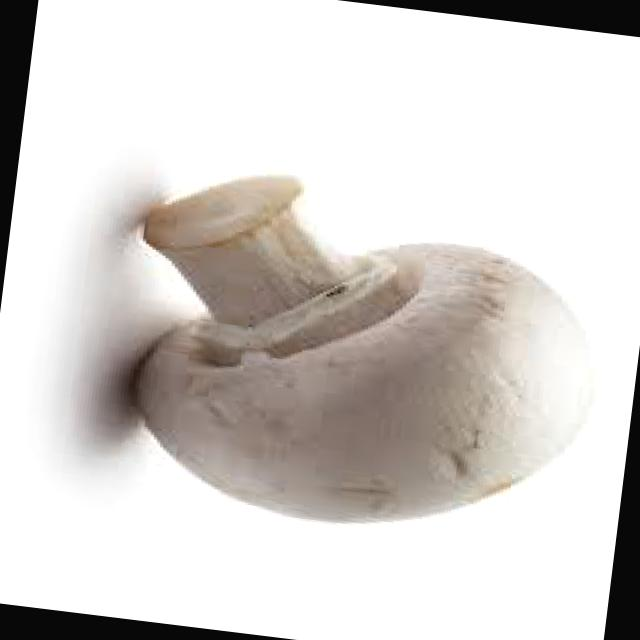Agaricus bisporus: (112, 160, 616, 552)
